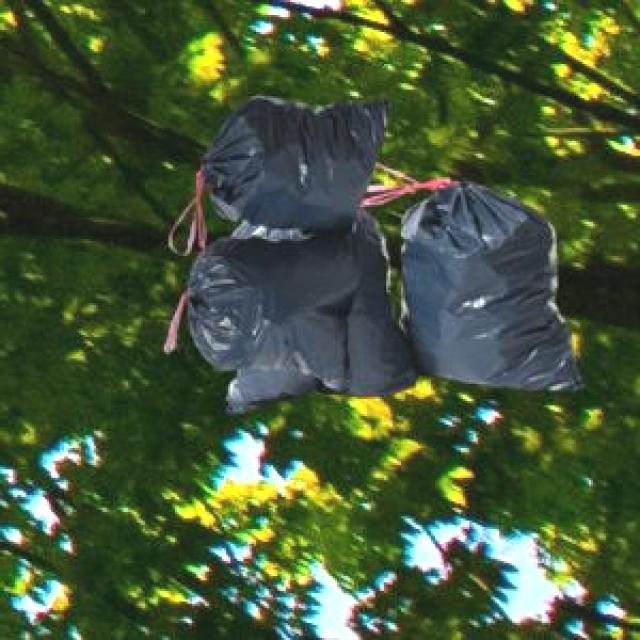Trashbag: (396, 178, 590, 391), (185, 230, 366, 396), (197, 90, 393, 240)
